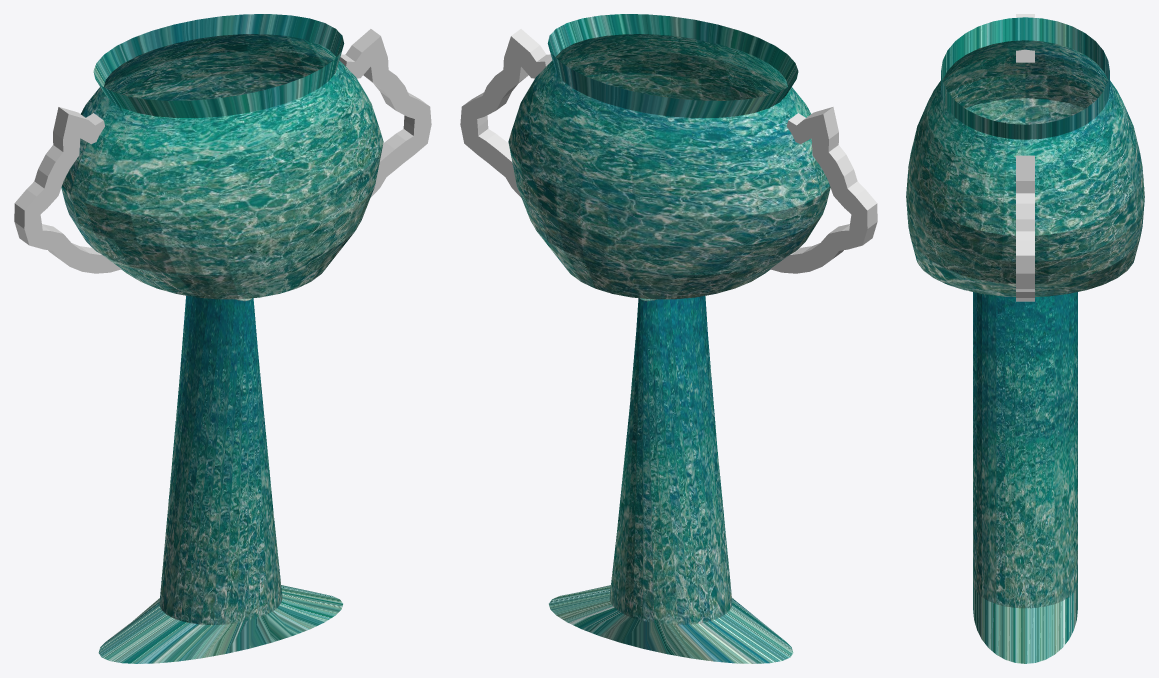
Rendered from Caliz.fbx.
3 views of the same model, side by side, from view 1: azimuth 30°, elevation 25°; view 2: azimuth 150°, elevation 25°; view 3: azimuth 270°, elevation 25° (orthographic). The views are drawn at different scales.
Visible parts, largest first — view 1: Esfera, Círculo, Círculo.001; view 2: Esfera, Círculo, Círculo.001; view 3: Esfera, Círculo.001.
Boxes of the visible parts, <box> form: Esfera: <box>61,14,383,663</box>; Círculo: <box>14,107,121,273</box>; Círculo.001: <box>339,29,431,197</box>; Esfera: <box>508,14,830,663</box>; Círculo: <box>770,107,877,273</box>; Círculo.001: <box>460,29,552,197</box>; Esfera: <box>906,17,1144,663</box>; Círculo.001: <box>1016,155,1034,301</box>.
Bounding box in the file's own units: 266 × 356 × 144.
Materials: 3 (1 with a texture image).
